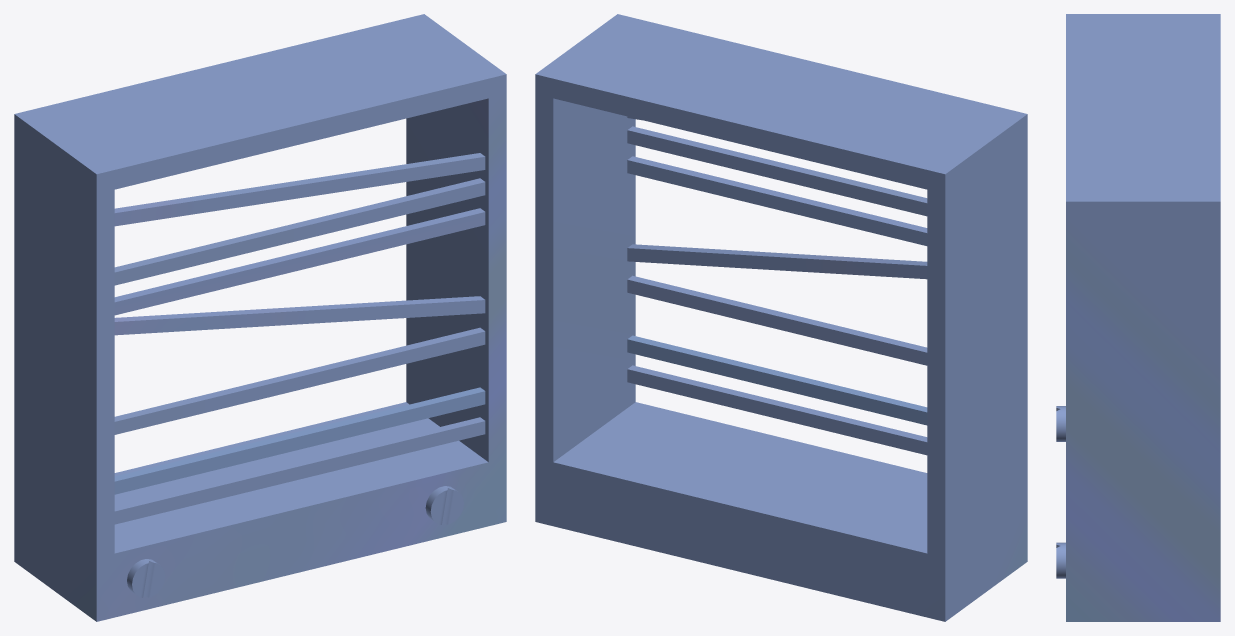
The model's file is G_EscombroRejilla.FBX.
3 renders of one model, left to right at view 1: azimuth 30°, elevation 25°; view 2: azimuth 150°, elevation 25°; view 3: azimuth 270°, elevation 25°, orthographic. The views are drawn at different scales.
Parts seen in each view (by area): view 1: G_Rejilla; view 2: G_Rejilla; view 3: G_Rejilla.
Part boxes in pixels (x1,y1,x2,y2): G_Rejilla: [14, 14, 506, 621]; G_Rejilla: [535, 14, 1027, 621]; G_Rejilla: [1056, 14, 1220, 621].
Bounding box in the file's own units: 0.2401 × 0.2505 × 0.0887.
